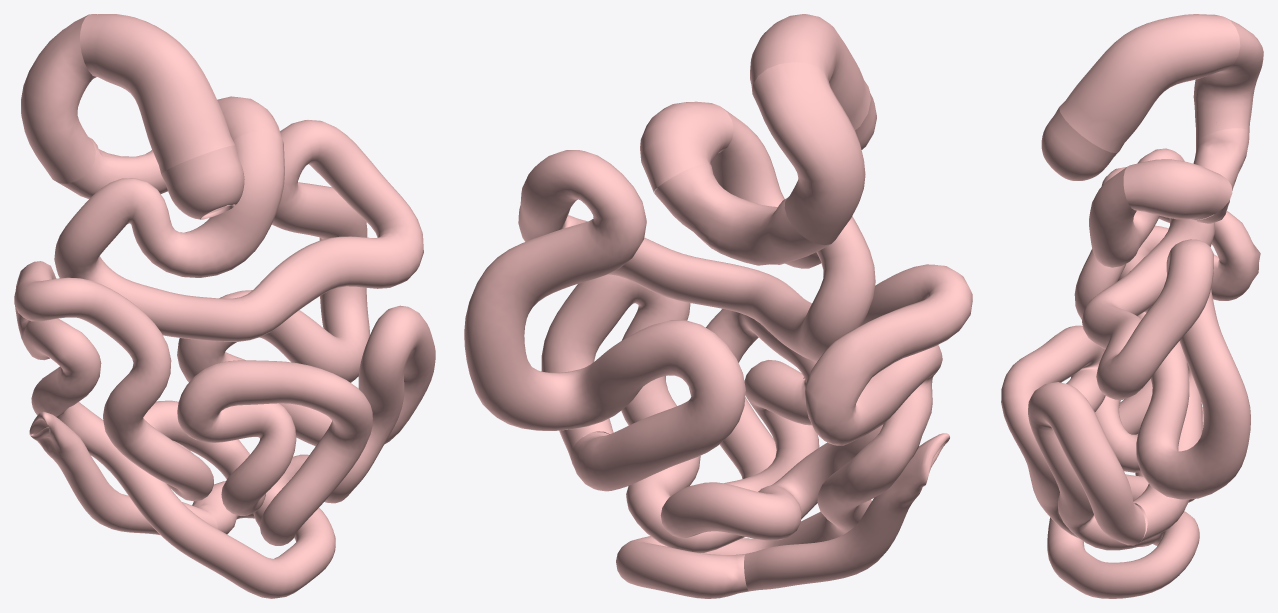
Rendered from gut-small.glb.
3 views of the same model, side by side, from view 1: azimuth 30°, elevation 25°; view 2: azimuth 150°, elevation 25°; view 3: azimuth 270°, elevation 25° (orthographic). The views are drawn at different scales.
Visible parts, largest first — view 1: VH_F_duodenum_superior; view 2: VH_F_duodenum_superior; view 3: VH_F_duodenum_superior.
Part boxes in pixels (box(x1,y1,x2,y2)): VH_F_duodenum_superior: box(14, 14, 435, 598); VH_F_duodenum_superior: box(464, 14, 972, 598); VH_F_duodenum_superior: box(1001, 14, 1263, 598).
Bounding box in the file's own units: 0.1616 × 0.2172 × 0.1.
